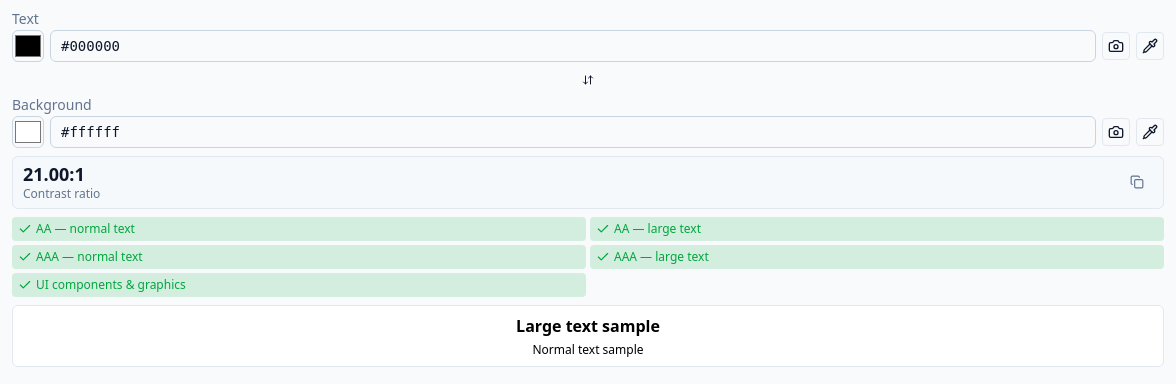
it: WcagCheckerWidget › swaps text and background colors
Replace the text in the field labelled "Text" with "#ff0000" at (573,46), box [50,30,1096,62]
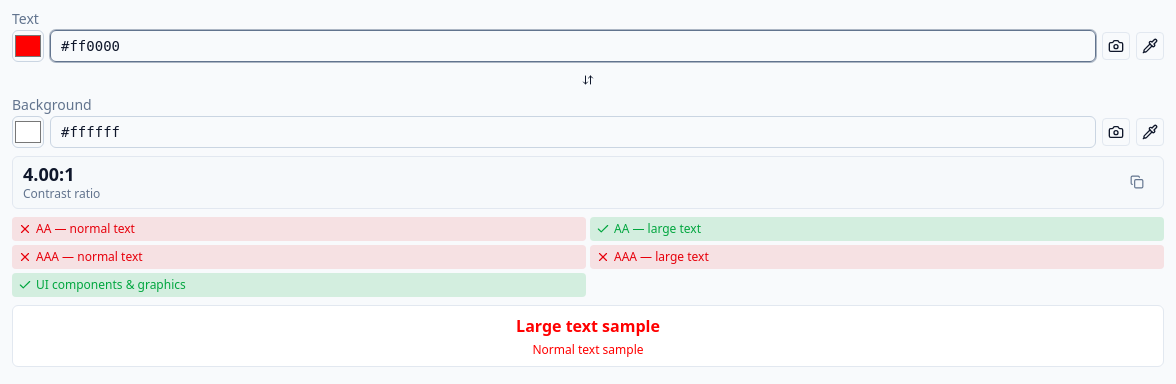
Click the button named "swap text and background colors".
click(588, 80)  # box [576,68,600,92]
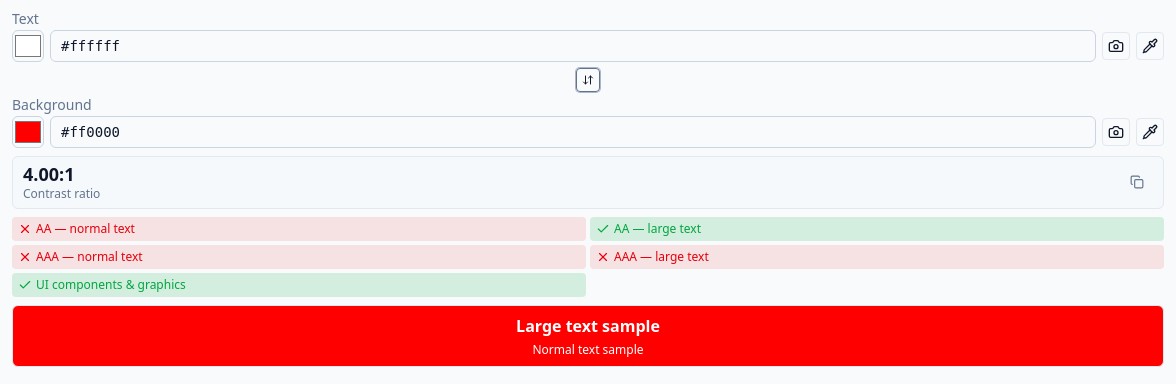
Result: the field labelled "Text" holds "#ffffff" at [50,30,1096,62]
Result: the field labelled "Background" holds "#ff0000" at [50,116,1096,148]
